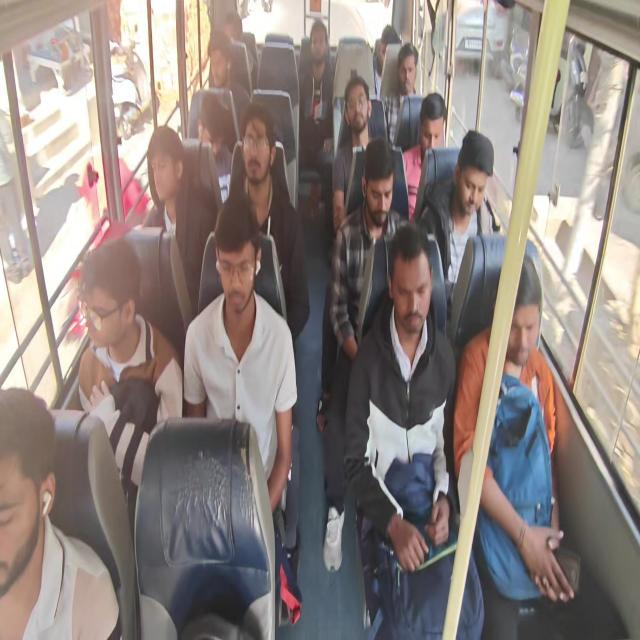person: (343, 221, 485, 638), (182, 193, 300, 625), (453, 252, 575, 638), (316, 136, 409, 572), (76, 237, 183, 540), (0, 386, 122, 639), (225, 102, 310, 340), (560, 43, 629, 280), (146, 125, 222, 318), (420, 129, 494, 303), (331, 75, 382, 235), (188, 30, 250, 146), (402, 91, 447, 220), (298, 19, 334, 170), (146, 124, 187, 234), (198, 91, 234, 203), (384, 42, 419, 144), (372, 24, 400, 98), (397, 42, 418, 96)
